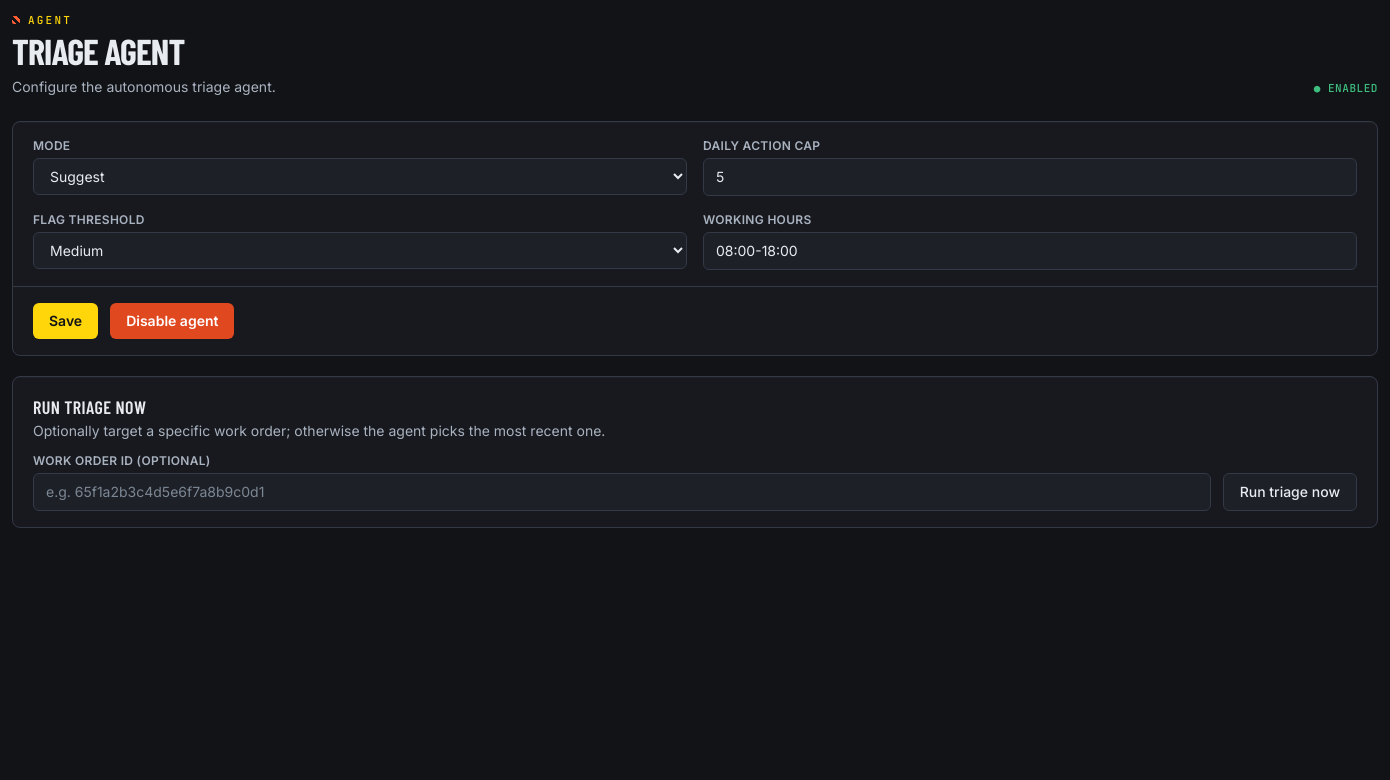
Test case: AgentSettingsPage › runs triage with an optional work order id
The width and height of the screenshot is (1390, 780).
Expected: the field showing "08:00-18:00" is shown, 703,232 -> 1357,270
Step 1. Type "wo-123" into the field labelled "Work order ID (optional)" → [622, 492], box 33,472 -> 1211,510
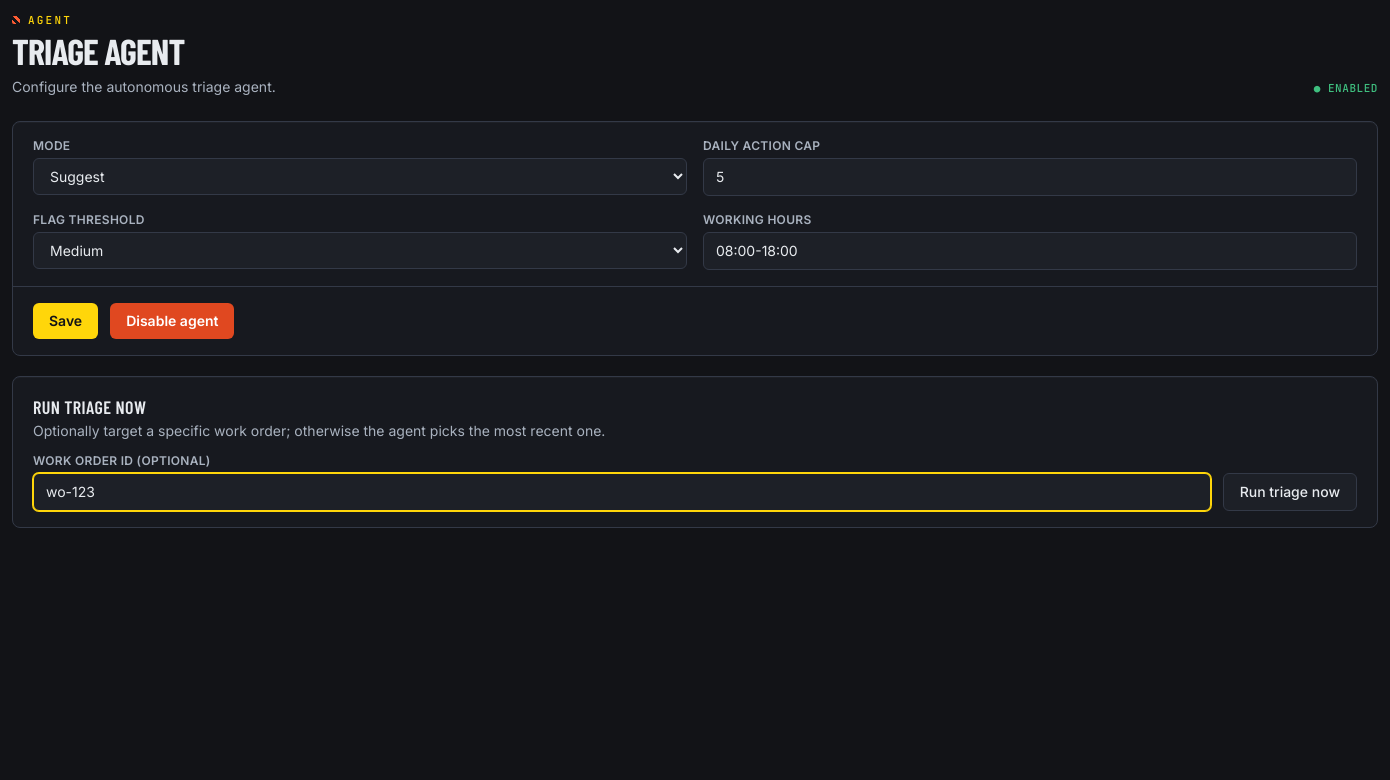
Step 2. Click the button "Run triage now" → [1290, 492], box 1223,472 -> 1357,510
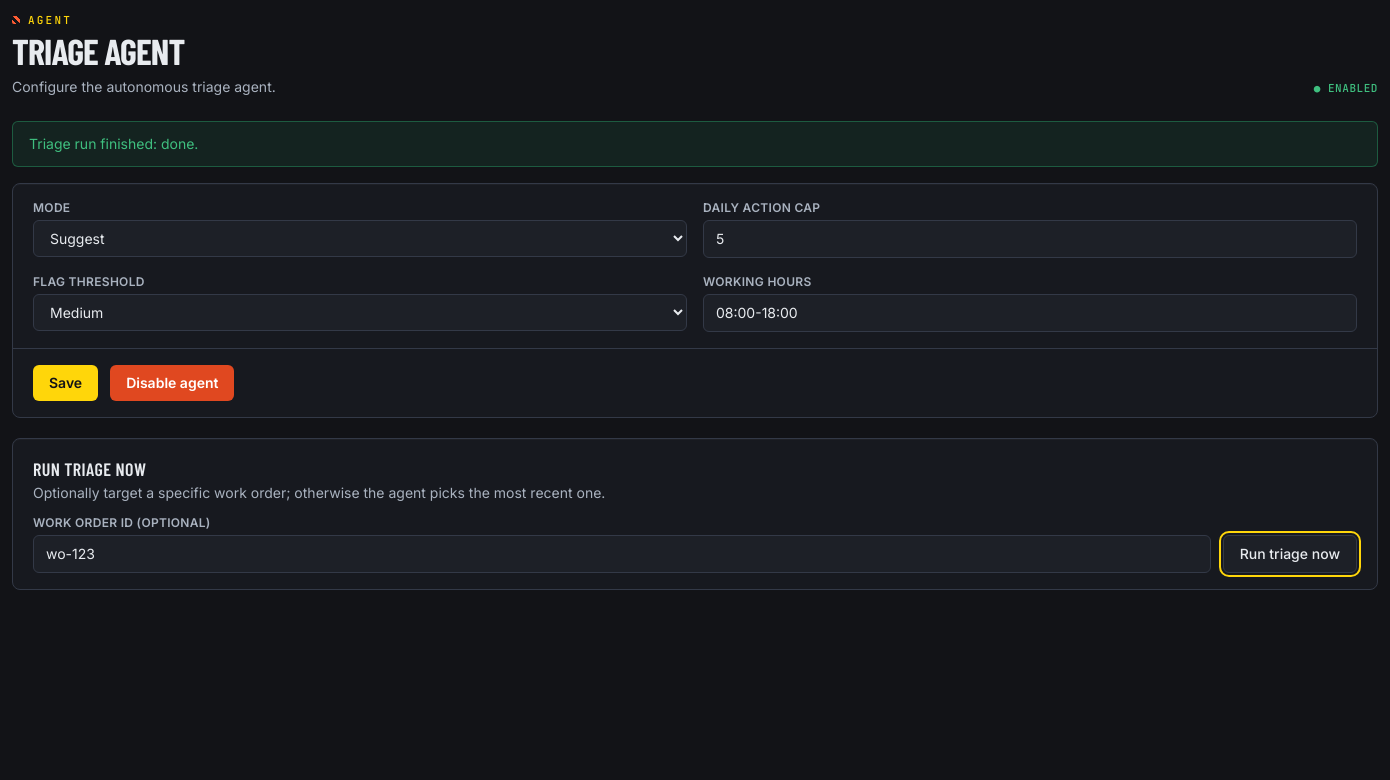
Now the text "Triage run finished: done." is shown, box 12,120 -> 1378,166
